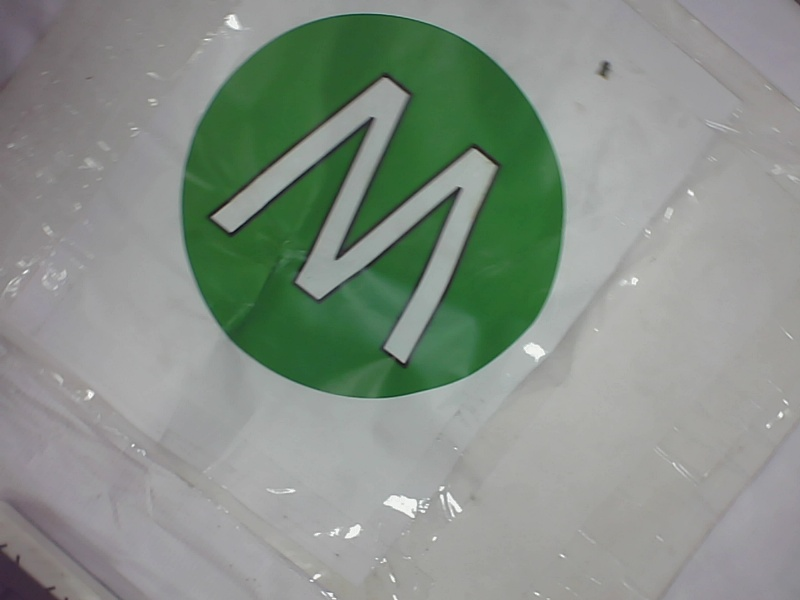areaB: (173, 14, 568, 403)
